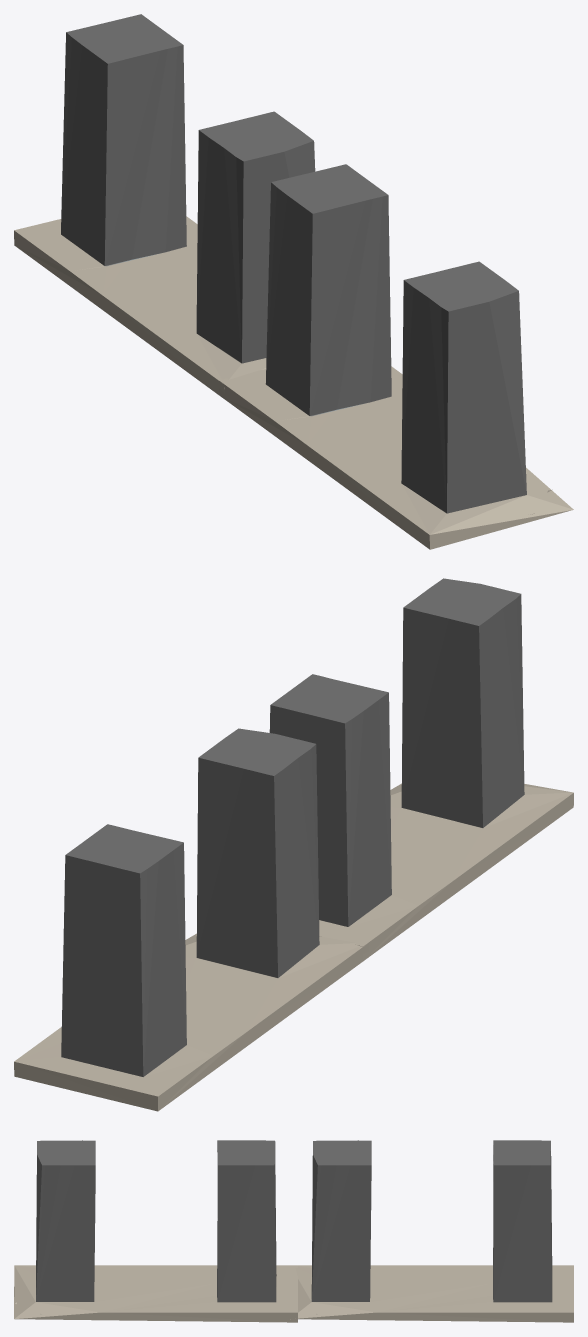
Rendered from etape-1.glb.
The picture shows the model from 3 angles, top to bottom: view 1: azimuth 30°, elevation 25°; view 2: azimuth 150°, elevation 25°; view 3: azimuth 270°, elevation 25°; orthographic projection. The views are drawn at different scales.
Visible parts, largest first — view 1: reduit; view 2: reduit; view 3: reduit.
Boxes of the visible parts, bbox=[...] form: reduit: bbox=[14, 14, 573, 549]; reduit: bbox=[14, 578, 573, 1111]; reduit: bbox=[14, 1140, 573, 1322].
Size of the model in its own units: 0.3952 by 0.5691 by 1.98.
